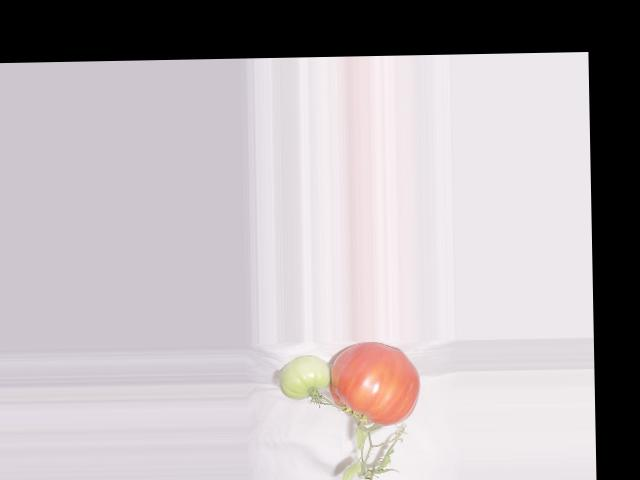tomato: (327, 341, 420, 426)
